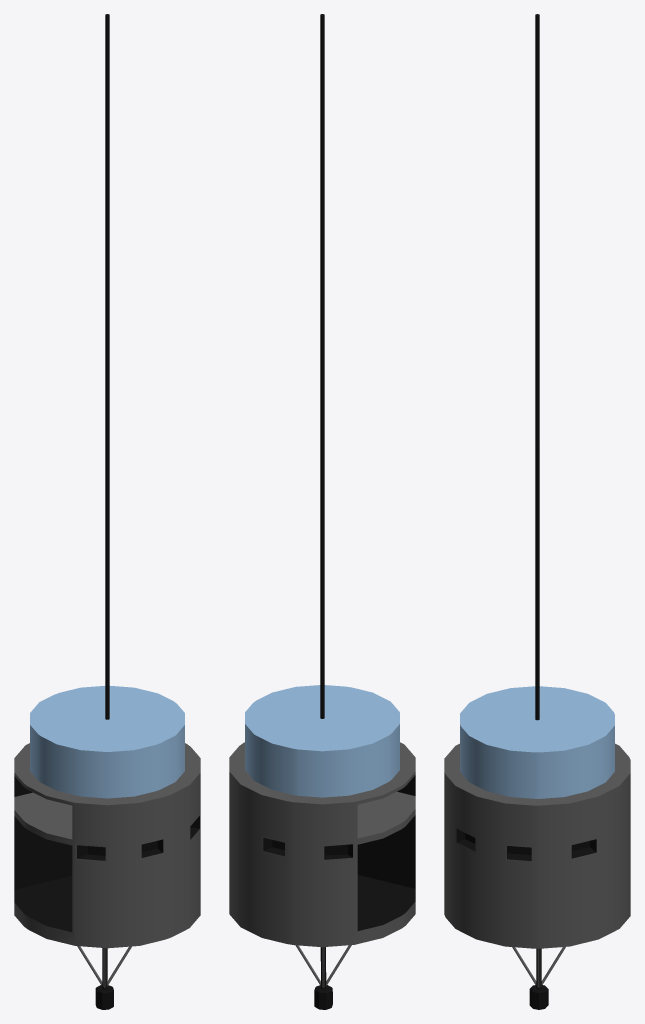
Rendered from Satellite2.FBX.
The picture shows the model from 3 angles, left to right: view 1: azimuth 30°, elevation 25°; view 2: azimuth 150°, elevation 25°; view 3: azimuth 270°, elevation 25°; orthographic projection.
Visible parts, largest first — view 1: Shape001, Line001; view 2: Shape001, Line001; view 3: Shape001, Line001.
Boxes of the visible parts, x1,y1,x2,y2 form: Shape001: [14, 686, 200, 1009]; Line001: [105, 14, 109, 719]; Shape001: [229, 685, 415, 1009]; Line001: [320, 14, 324, 718]; Shape001: [444, 686, 630, 1009]; Line001: [535, 14, 539, 720].
Bounding box in the file's own units: 46.65 × 272 × 46.29.
